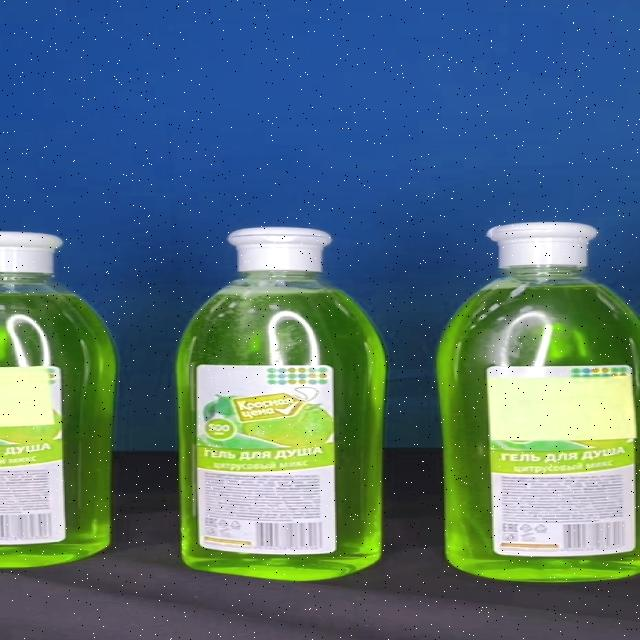Bottle: (176, 227, 385, 581), (439, 223, 640, 582)
Cap: (487, 224, 596, 268), (226, 228, 333, 272)
